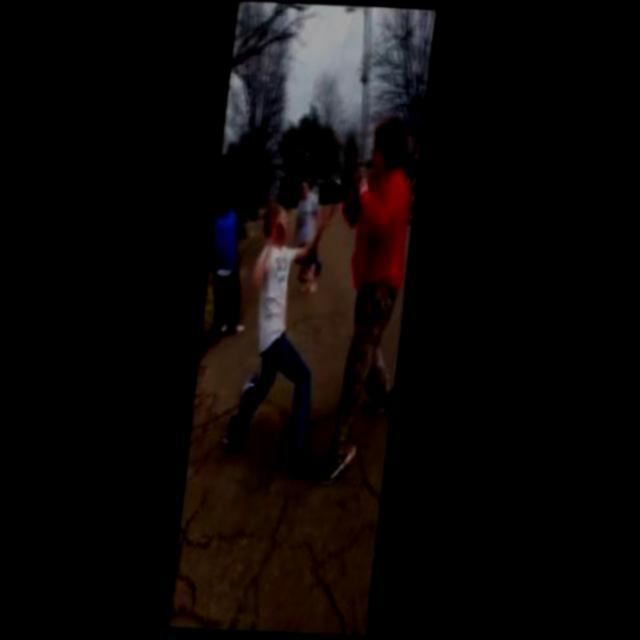fight: (228, 116, 421, 488)
